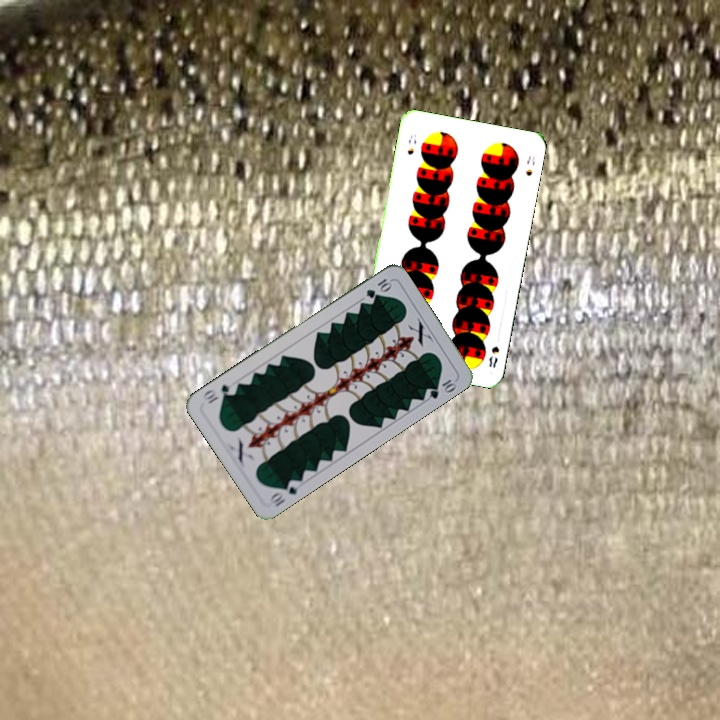G10: (266, 475, 304, 510), (362, 274, 394, 301)
S8: (485, 342, 502, 370), (403, 131, 419, 157)
